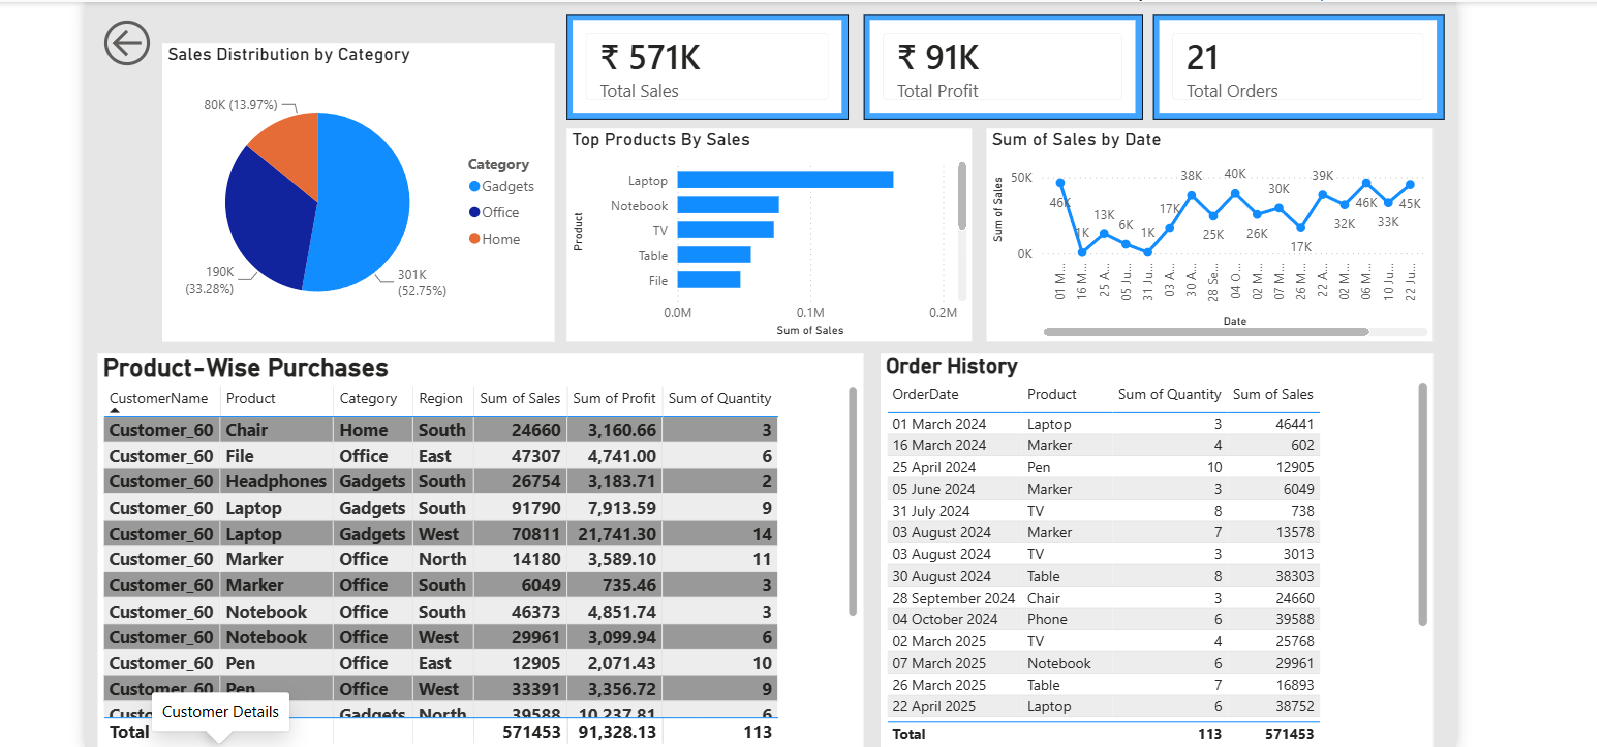

What the dashboard file says about the page in this screenshot:
{"tool":"powerbi","page":{"name":"Customer Details","canvas":[1280,720],"ordinal":1},"visuals":[{"type":"tableEx","title":"Product-Wise Purchases","fields":{"Values":["Sheet.CustomerName","Sheet.Product","Sheet.Category","Sheet.Region","Sum(Sheet.Sales)","Sum(Sheet.Profit)","Sum(Sheet.Quantity)"]},"box":[12.3,338.9,714.9,381.5],"z":0},{"type":"actionButton","box":[12.2,12.2,146.7,55],"z":1000},{"type":"cardVisual","fields":{"Data":["Sheet.Total Sales"]},"box":[450.1,12.3,263.5,101.5],"z":2000},{"type":"cardVisual","fields":{"Data":["Sheet.Total Profit"]},"box":[727.3,12.3,260.7,101.5],"z":3000},{"type":"cardVisual","fields":{"Data":["Sheet.Total Orders"]},"box":[997.6,12.3,271.7,101.5],"z":4000},{"type":"clusteredBarChart","title":"Top Products By Sales","fields":{"Category":["Sheet.Product"],"Y":["Sum(Sheet.Sales)"]},"box":[450.1,122.1,378.7,205.8],"z":5000},{"type":"pieChart","title":"Sales Distribution by Category","fields":{"Category":["Sheet.Category"],"Y":["Sum(Sheet.Sales)"]},"box":[72.7,39.8,366.4,288.2],"z":6000},{"type":"lineChart","fields":{"Y":["Sum(Sheet.Sales)"],"Category":["Date Table.Date.Variation.Date Hierarchy.Year"]},"box":[842.5,122.1,417.2,205.8],"z":7000},{"type":"tableEx","title":"Order History","fields":{"Values":["Sheet.OrderDate","Sheet.Product","Sum(Sheet.Quantity)","Sum(Sheet.Sales)"]},"box":[743.7,338.9,516,381.5],"z":8000}]}

Visuals, with their boxes on the page's 1280x720 design canvas (x1, y1, x2, y2). These are canvas units, not pixel positions in the 1597x747 screenshot, which may show the page scaled, cropped or inside an application window:
"Product-Wise Purchases" tableEx: region(12, 339, 727, 720)
actionButton: region(12, 12, 159, 67)
cardVisual - Sheet.Total Sales: region(450, 12, 714, 114)
cardVisual - Sheet.Total Profit: region(727, 12, 988, 114)
cardVisual - Sheet.Total Orders: region(998, 12, 1269, 114)
"Top Products By Sales" clusteredBarChart: region(450, 122, 829, 328)
"Sales Distribution by Category" pieChart: region(73, 40, 439, 328)
lineChart - Sum(Sheet.Sales) x Date Table.Date.Variation.Date Hierarchy.Year: region(842, 122, 1260, 328)
"Order History" tableEx: region(744, 339, 1260, 720)
